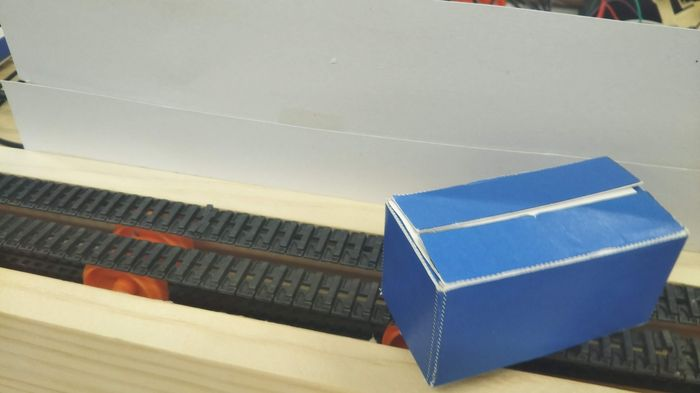box3: (376, 152, 688, 386)
